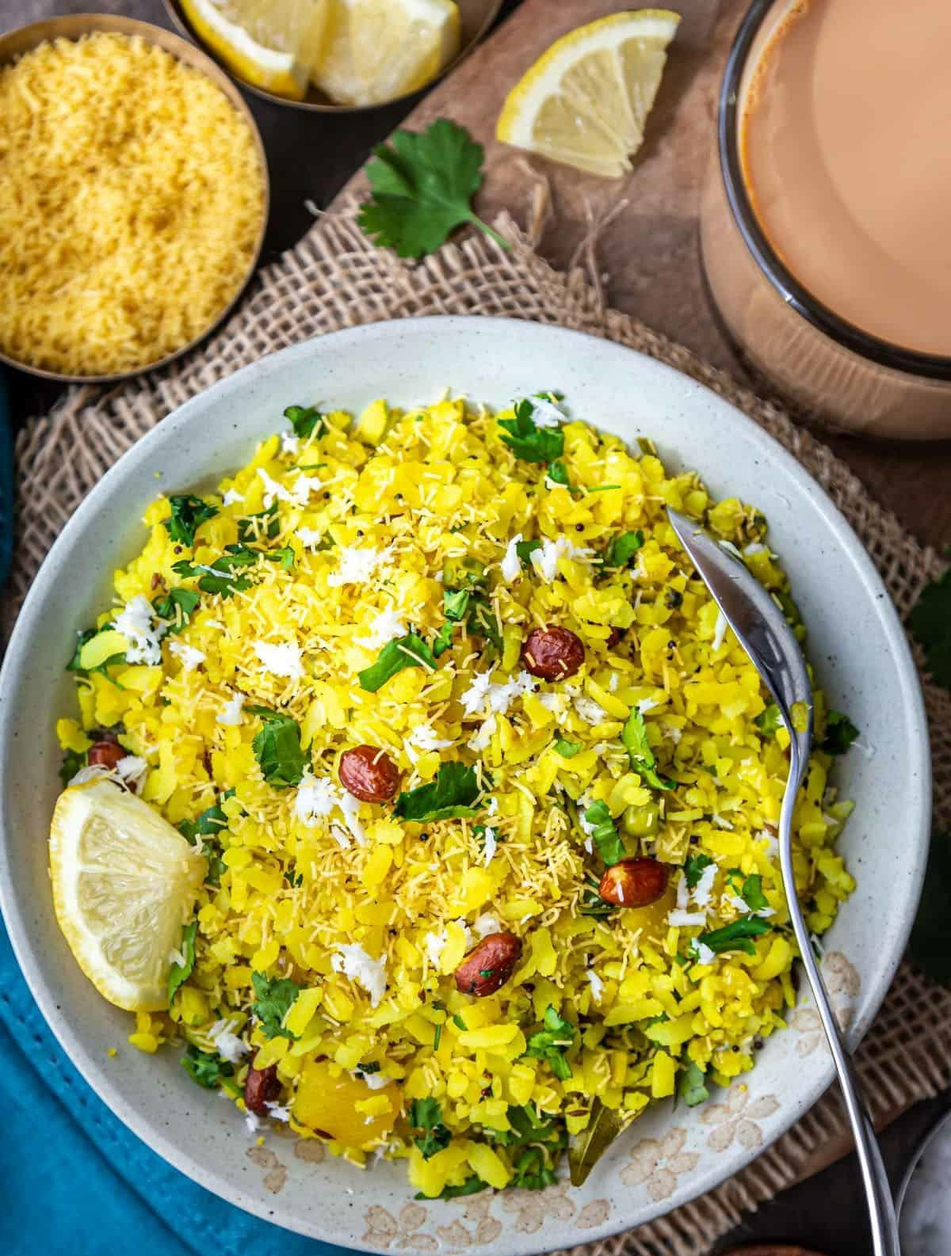Poha: (48, 383, 854, 1180)
